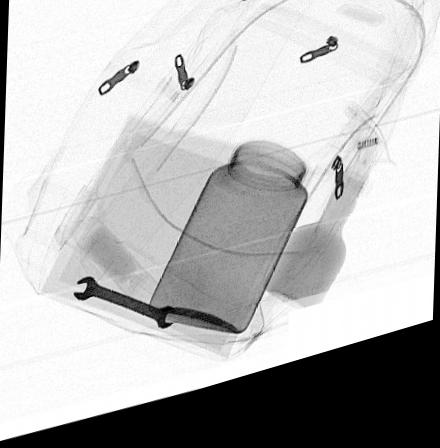Wrench: (71, 279, 177, 339)
